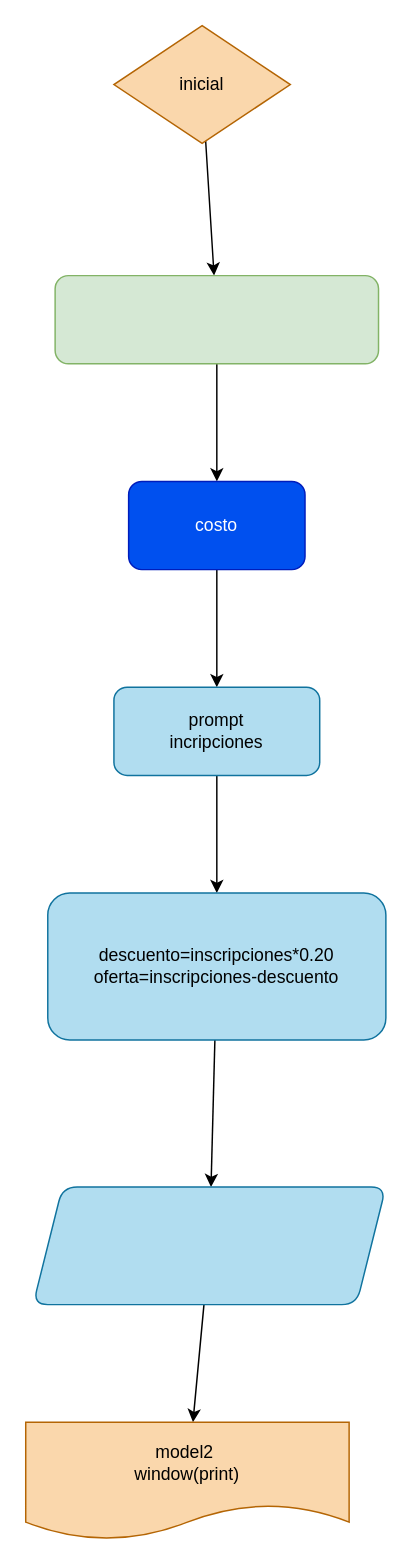
Some shapes in this 412 by 1566 pixel diagram are drawn without their labels. Here are the shapes that lost their labels. From the top down, the centre of each, then its label:
pixel 216 319: inscripciones,descuento,oferta
pixel 209 1245: demo costo,incripciones,descuento,oferta
